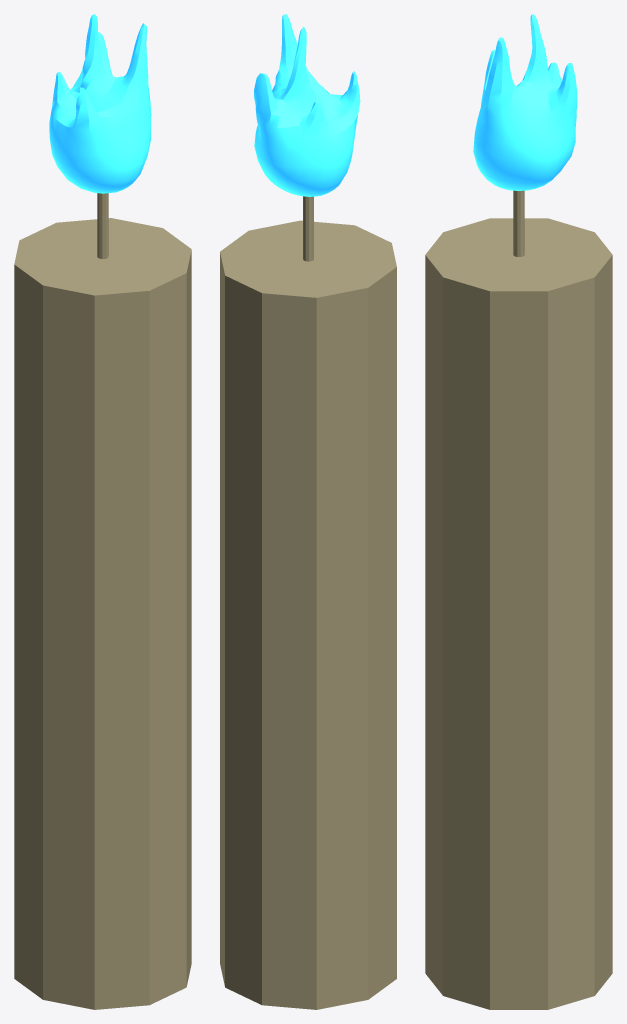
The model's file is Candle_Blu_5.fbx.
3 views of the same model, side by side, from view 1: azimuth 30°, elevation 25°; view 2: azimuth 150°, elevation 25°; view 3: azimuth 270°, elevation 25° (orthographic).
Visible parts, largest first — view 1: Candle 1.002; view 2: Candle 1.002; view 3: Candle 1.002.
Part boxes in pixels (left/top/right/bottom): Candle 1.002: left=14, top=14, right=191, bottom=1009; Candle 1.002: left=220, top=14, right=396, bottom=1009; Candle 1.002: left=425, top=14, right=612, bottom=1009.
Size of the model in its own units: 17.05 by 104 by 18.5.
